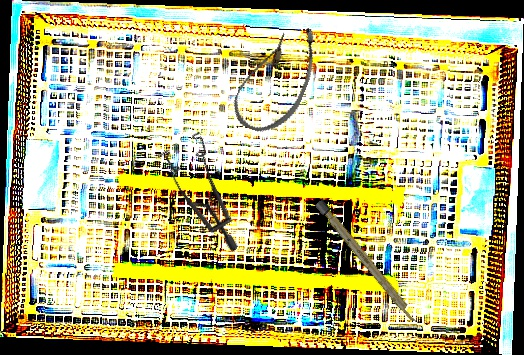Cannula: (226, 12, 328, 143)
Scalpel Handle: (314, 199, 420, 325)
Speculum: (137, 119, 280, 254)
